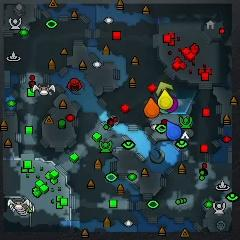p1: (166, 120, 181, 141)
p3: (165, 97, 178, 113)
p4: (157, 90, 172, 110)
p5: (144, 97, 159, 119)
x2: (156, 82, 173, 95)
